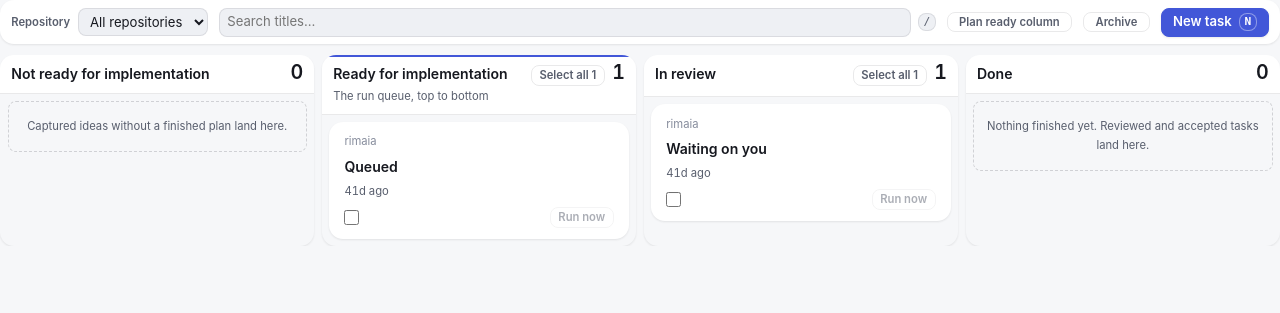
it: Board › picks only the one card when a shift-click crosses columns
This screenshot has width=1280, height=313.
Step 1. Click the checkbox named "Select \"Queued\"" → [352, 217], box [344,210,359,225]
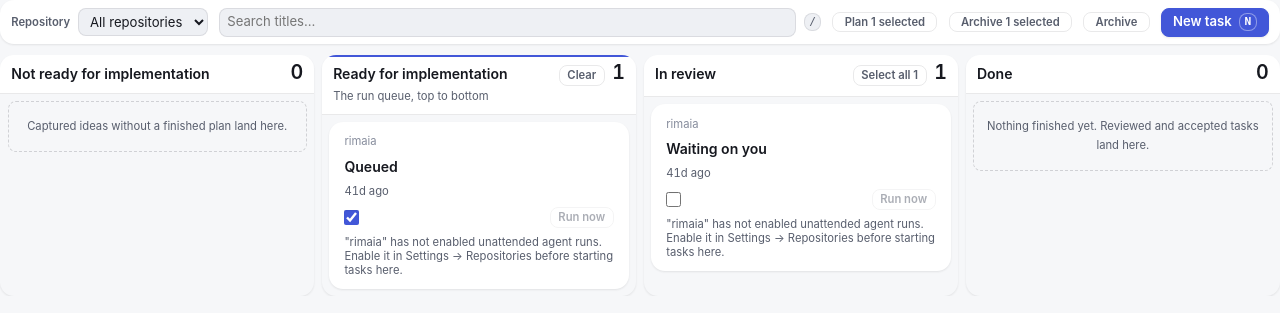
Step 2. Click the checkbox named "Select \"Waiting on you\"" → [674, 200], box [666,192,681,207]
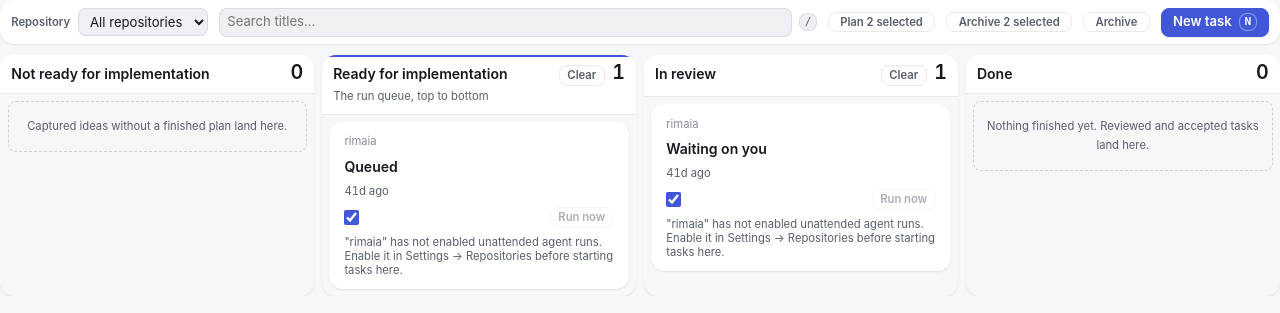
expect the button "Archive 2 selected" is shown: met, box [946,12,1072,32]
